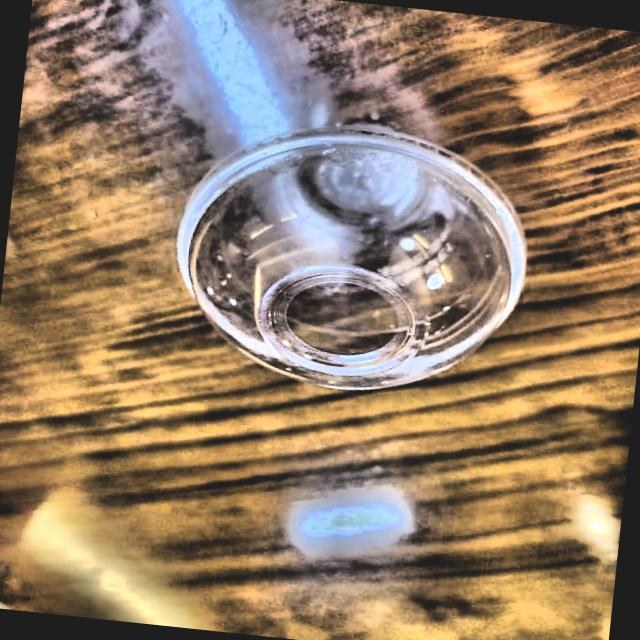plastic cup: (117, 71, 572, 418)
